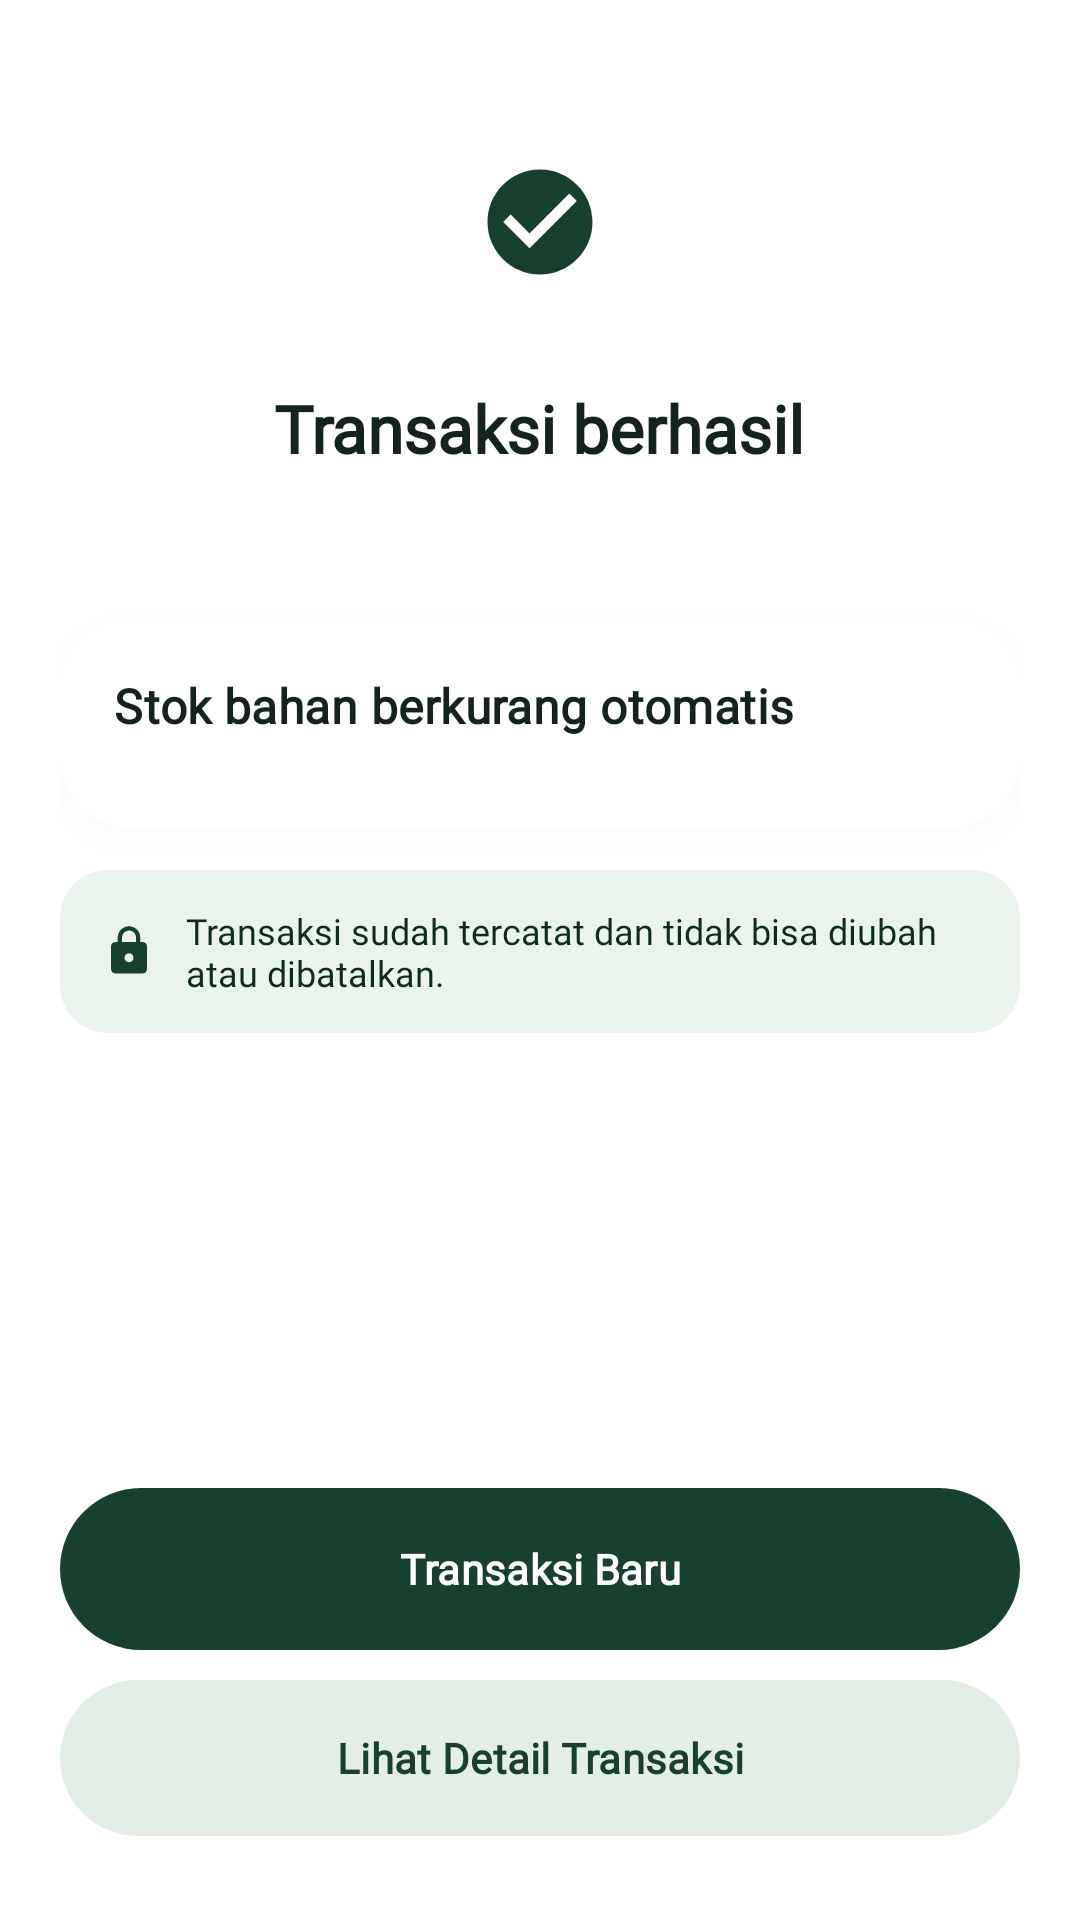

Icons on this 1080px x 1920px Android screen, each with its box as rect(x1, y1, x2, y2):
check circle: rect(487, 169, 593, 275)
lock: rect(111, 926, 147, 974)
